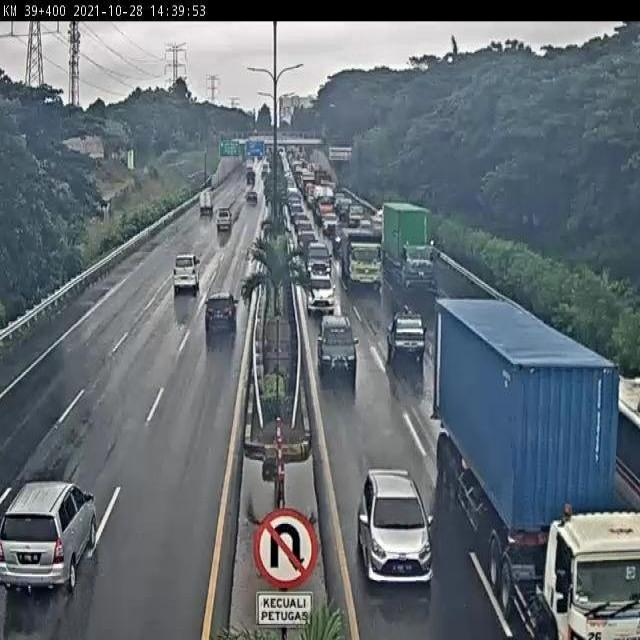big truck: (436, 300, 640, 640), (379, 203, 429, 281), (337, 228, 383, 287)
car: (0, 478, 97, 590), (359, 467, 431, 582), (317, 317, 356, 372), (384, 311, 426, 358), (204, 294, 239, 334), (305, 269, 333, 308), (173, 255, 200, 293), (304, 237, 329, 268), (215, 208, 233, 235), (297, 230, 316, 250)
